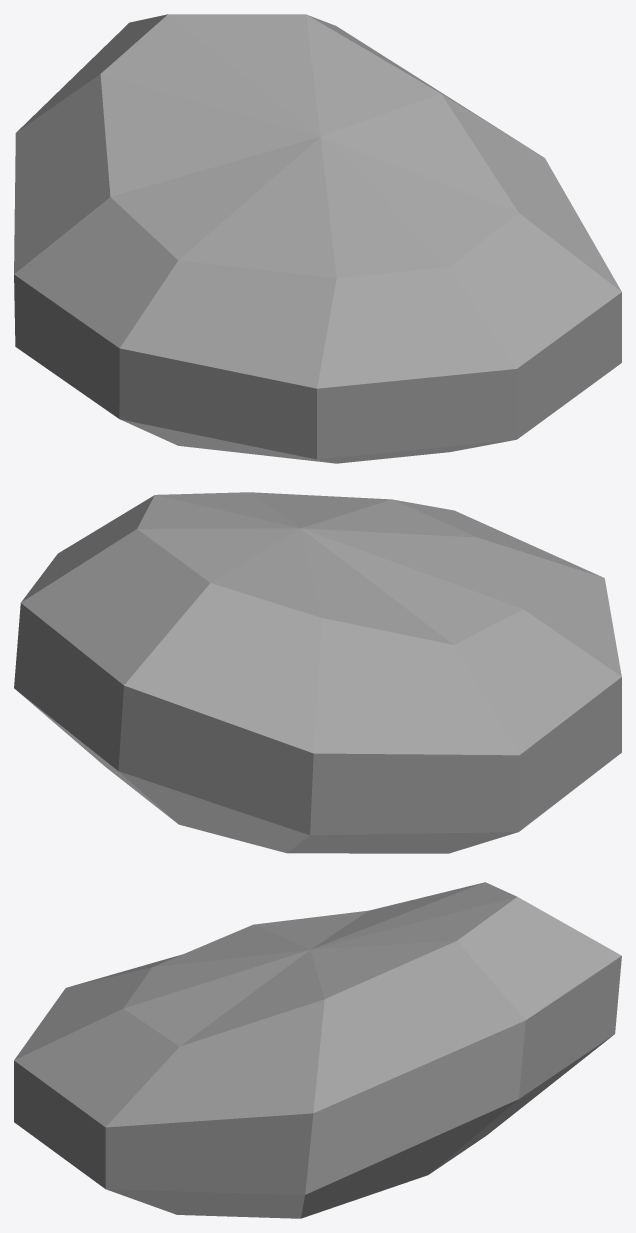
File: rock2.fbx
The picture shows the model from 3 angles, top to bottom: view 1: azimuth 30°, elevation 25°; view 2: azimuth 150°, elevation 25°; view 3: azimuth 270°, elevation 25°; orthographic projection. The views are drawn at different scales.
Visible parts, largest first — view 1: rock2; view 2: rock2; view 3: rock2.
Part boxes in pixels (x1,y1,x2,y2): rock2: [14, 14, 621, 463]; rock2: [14, 492, 621, 853]; rock2: [14, 882, 621, 1218].
Bounding box in the file's own units: 1.06 × 0.632 × 1.3.
